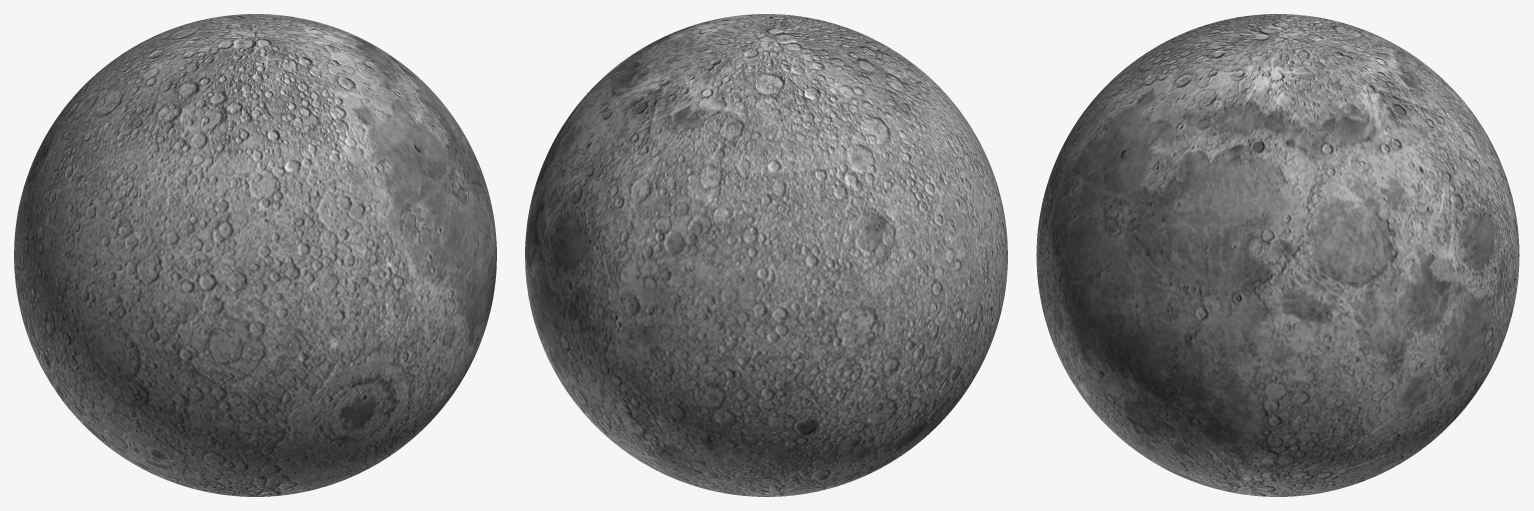
File: moon.obj
The picture shows the model from 3 angles, left to right: view 1: azimuth 30°, elevation 25°; view 2: azimuth 150°, elevation 25°; view 3: azimuth 270°, elevation 25°; orthographic projection.
Visible parts, largest first — view 1: Sphere.001_Sphere.002; view 2: Sphere.001_Sphere.002; view 3: Sphere.001_Sphere.002.
Part boxes in pixels (box(x1,y1,x2,y2)): Sphere.001_Sphere.002: box(14, 14, 496, 496); Sphere.001_Sphere.002: box(525, 14, 1007, 496); Sphere.001_Sphere.002: box(1036, 14, 1519, 496).
Size of the model in its own units: 1.22 by 1.22 by 1.22.
1 material, 1 textured.
